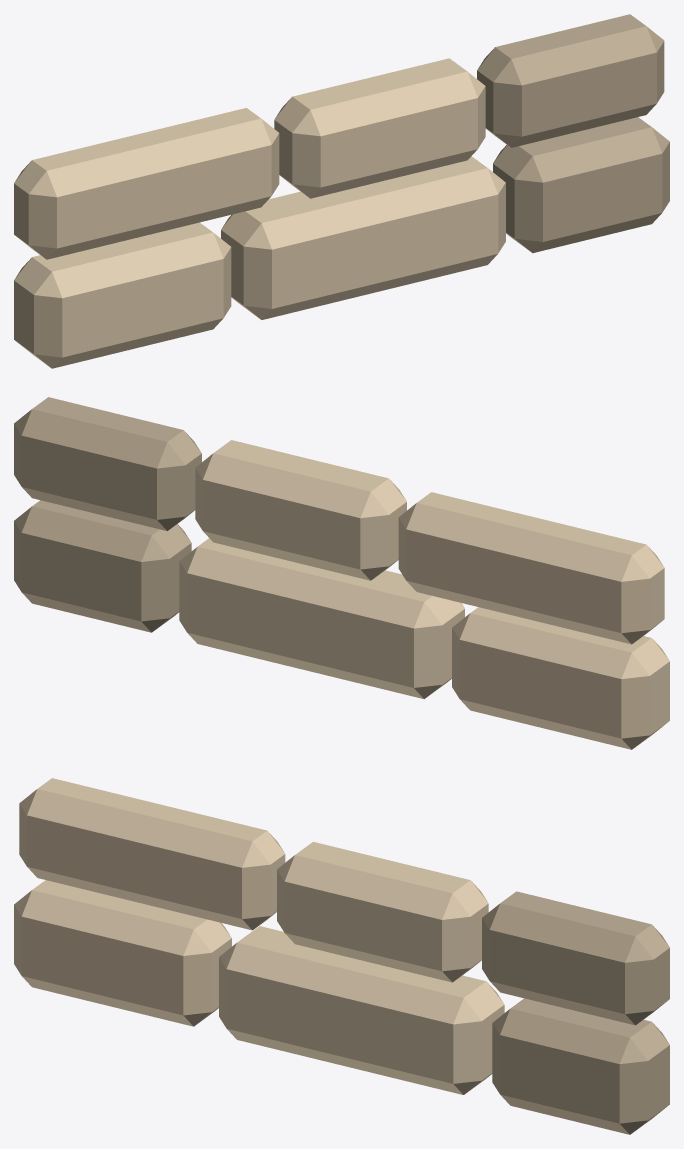
File: foundation_skirt_1m.glb
3 renders of one model, top to bottom at view 1: azimuth 30°, elevation 25°; view 2: azimuth 150°, elevation 25°; view 3: azimuth 330°, elevation 25°, orthographic.
Parts seen in each view (by area): view 1: foundation_skirt_1m; view 2: foundation_skirt_1m; view 3: foundation_skirt_1m.
Boxes of the visible parts, x1=… form: foundation_skirt_1m: x1=14, y1=14, x2=669, y2=368; foundation_skirt_1m: x1=14, y1=397, x2=669, y2=749; foundation_skirt_1m: x1=14, y1=778, x2=669, y2=1134.
Size of the model in its own units: 0.985 by 0.288 by 0.1169.
